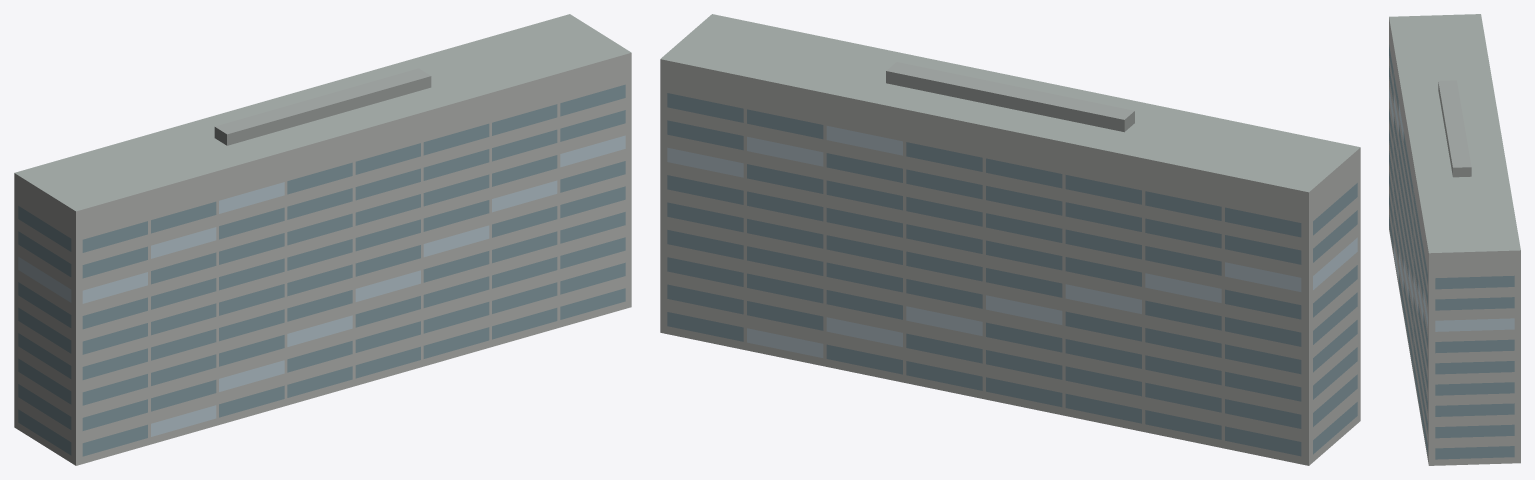
File: fallback-olympic-athletes-village-317.glb
3 views of the same model, side by side, from view 1: azimuth 30°, elevation 25°; view 2: azimuth 150°, elevation 25°; view 3: azimuth 270°, elevation 25° (orthographic). The views are drawn at different scales.
Visible parts, largest first — view 1: fallback-olympic-athletes-village-317; view 2: fallback-olympic-athletes-village-317; view 3: fallback-olympic-athletes-village-317.
Part boxes in pixels (x1=…): fallback-olympic-athletes-village-317: x1=14, y1=14, x2=631, y2=465; fallback-olympic-athletes-village-317: x1=660, y1=14, x2=1360, y2=465; fallback-olympic-athletes-village-317: x1=1389, y1=14, x2=1520, y2=465.
Size of the model in its own units: 73.54 by 31.87 by 17.14.
